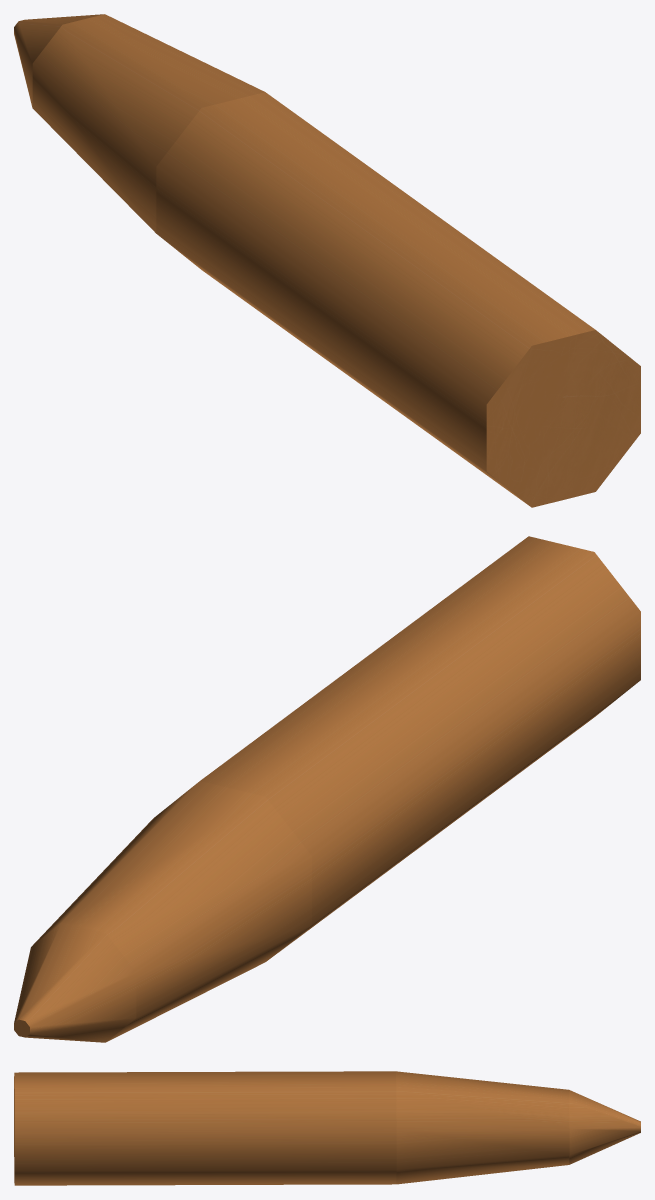
The model's file is Bullet.gltf.
3 renders of one model, top to bottom at view 1: azimuth 30°, elevation 25°; view 2: azimuth 150°, elevation 25°; view 3: azimuth 270°, elevation 25°, orthographic. The views are drawn at different scales.
Parts seen in each view (by area): view 1: Sniper Bullet; view 2: Sniper Bullet; view 3: Sniper Bullet.
Part boxes in pixels (x1=…): Sniper Bullet: x1=14, y1=14, x2=640, y2=507; Sniper Bullet: x1=14, y1=536, x2=640, y2=1042; Sniper Bullet: x1=14, y1=1071, x2=640, y2=1185.
Bounding box in the file's own units: 0.0316 × 0.0308 × 0.1843.
Materials: 1 (1 with a texture image).
